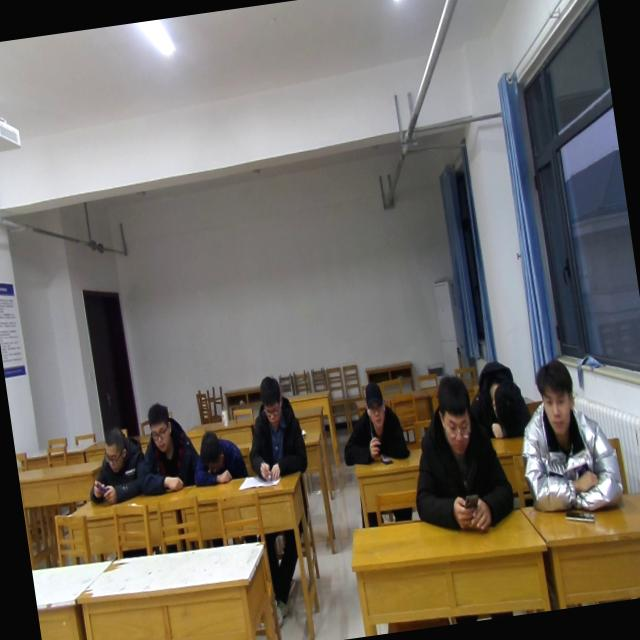bow: (128, 396, 203, 497), (466, 356, 537, 444), (82, 420, 152, 504), (188, 428, 251, 490)
down: (430, 369, 480, 463), (256, 371, 292, 426), (143, 396, 176, 450), (98, 424, 130, 475)
lookup: (530, 355, 580, 439), (358, 376, 391, 431)
sit: (510, 350, 628, 518), (401, 370, 518, 538), (336, 378, 418, 526), (238, 374, 312, 488)
